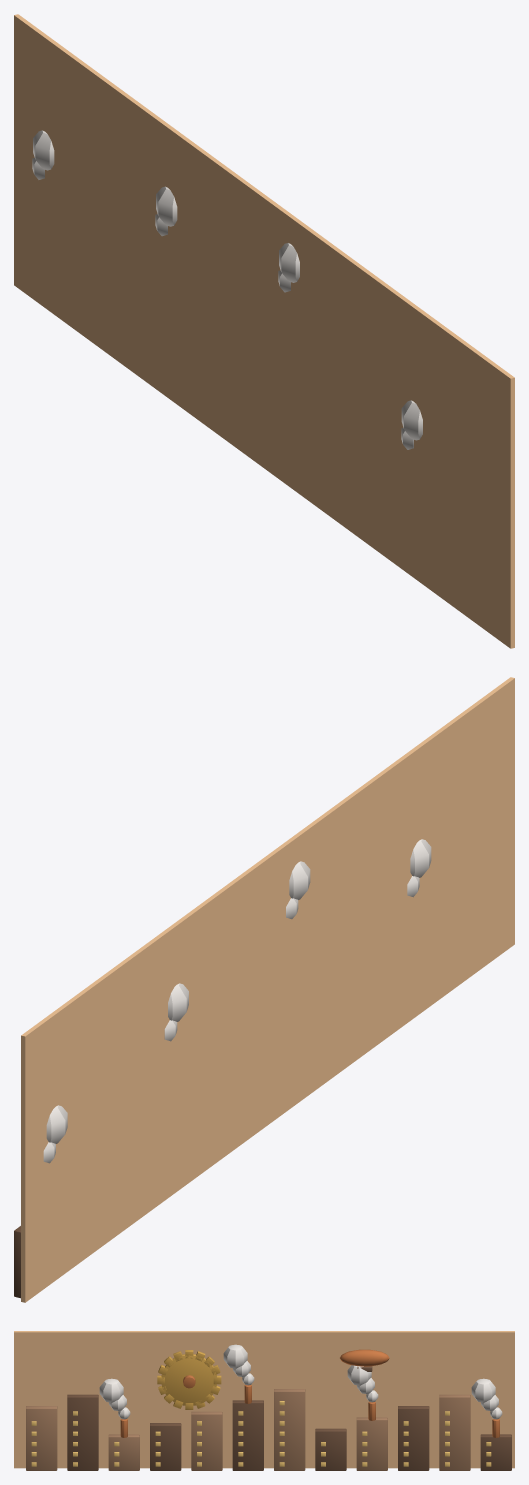
Rendered from BackdropClock.fbx.
3 renders of one model, top to bottom at view 1: azimuth 30°, elevation 25°; view 2: azimuth 150°, elevation 25°; view 3: azimuth 270°, elevation 25°, orthographic. The views are drawn at different scales.
Visible parts, largest first — view 1: BackdropClock; view 2: BackdropClock; view 3: BackdropClock.
Part boxes in pixels (box(x1,y1,x2,y2)): BackdropClock: box(14, 14, 514, 648); BackdropClock: box(14, 677, 514, 1302); BackdropClock: box(14, 1331, 514, 1470).
Size of the model in its own units: 380 by 2400 by 8000.
